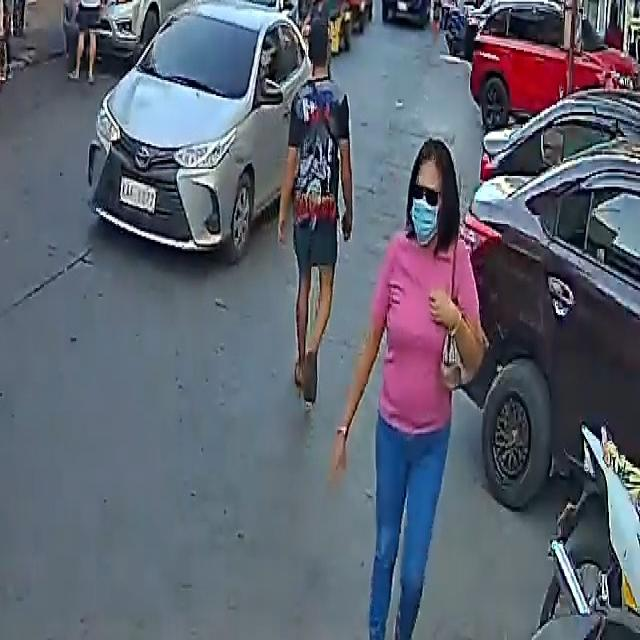car: (457, 96, 640, 516), (88, 0, 317, 258), (467, 0, 640, 128), (82, 0, 216, 52), (214, 0, 297, 23), (381, 0, 434, 25)
